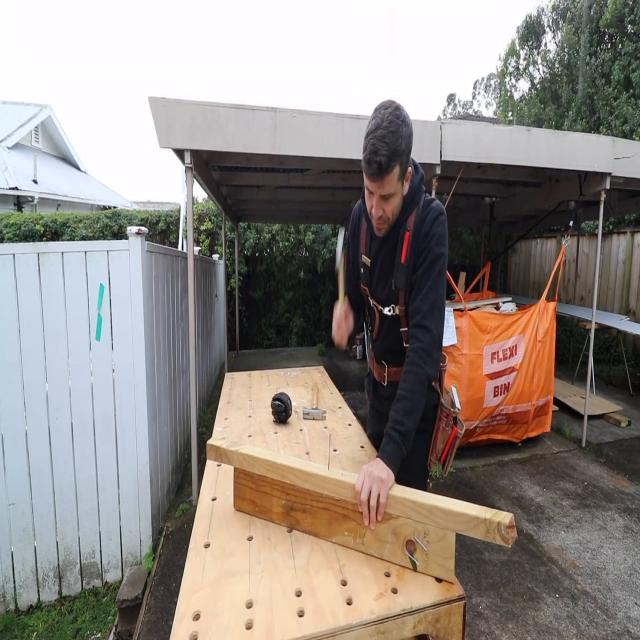hammer: (300, 376, 328, 426), (335, 224, 347, 316)
